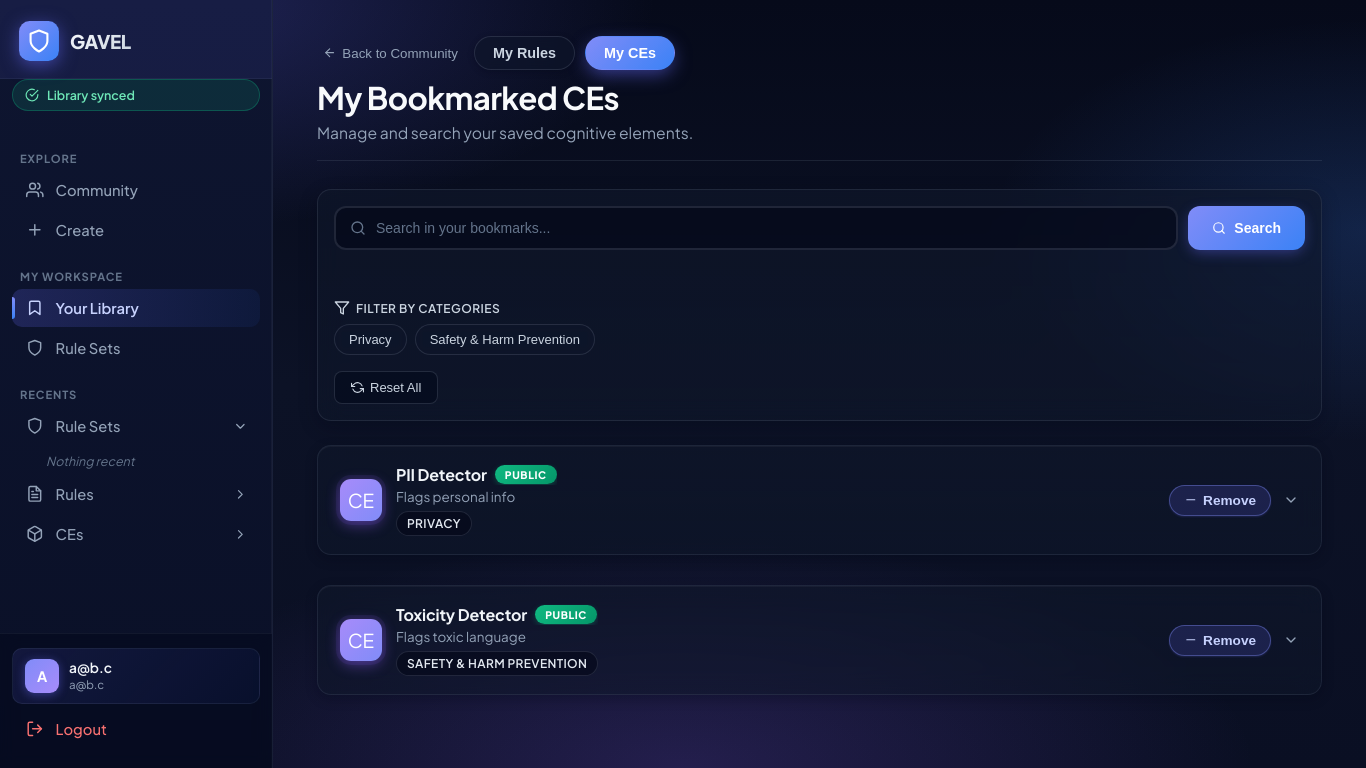
it: BookmarksCEs › removes a bookmark and shows a success toast
Expected: the heading "Toxicity Detector Public" is shown, x1=396 y1=604 x2=598 y2=625
Click the button with aria-label "Bookmark CE": {"x": 1220, "y": 640} x1=1168 y1=624 x2=1271 y2=656
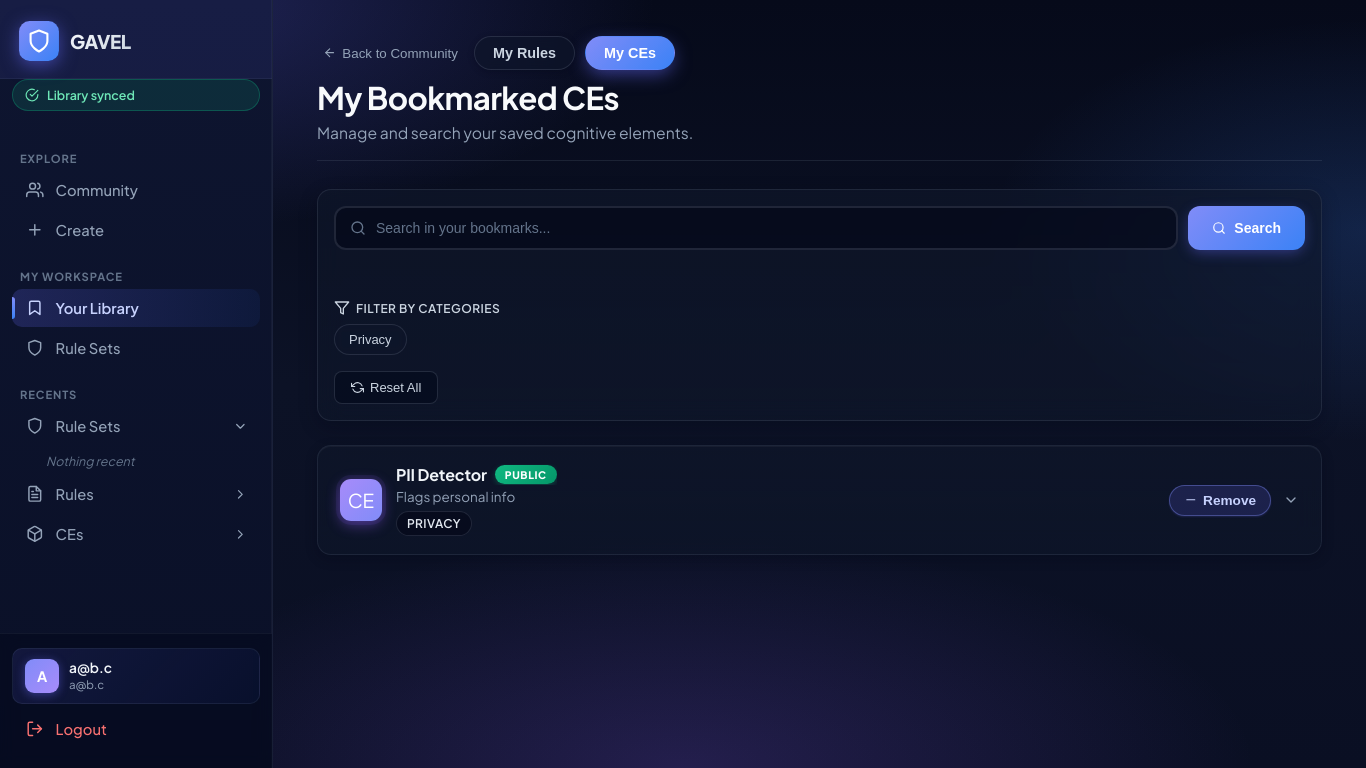
Expected: the heading "PII Detector Public" is shown, x1=396 y1=464 x2=557 y2=485
Expected: the heading "Toxicity Detector" is gone
